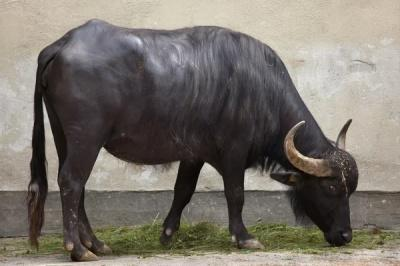buffalo: (28, 19, 358, 260)
